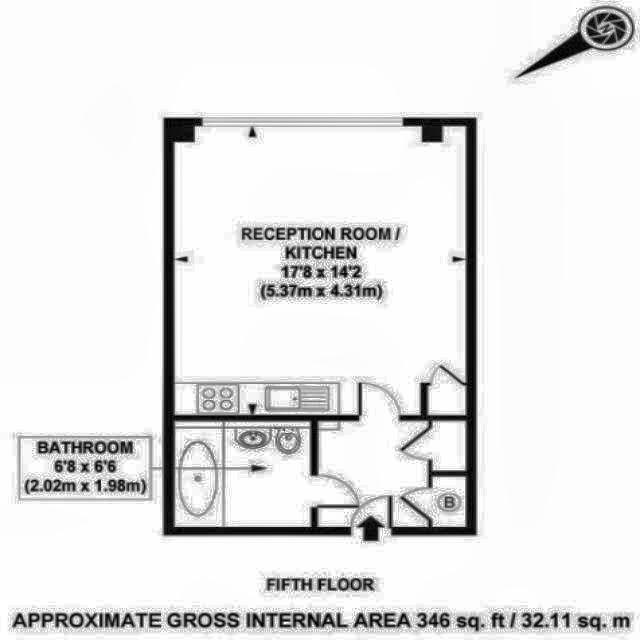room: (173, 126, 467, 416), (317, 420, 467, 527), (174, 420, 311, 527), (427, 385, 465, 415)
